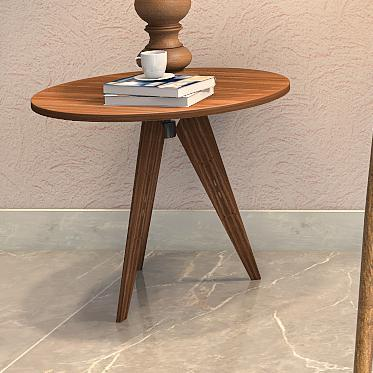table: (27, 64, 290, 296)
